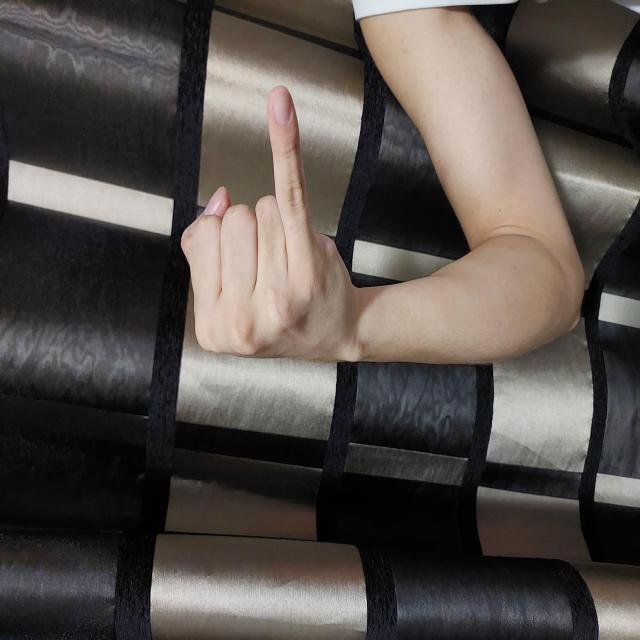J: (276, 178, 557, 354)
